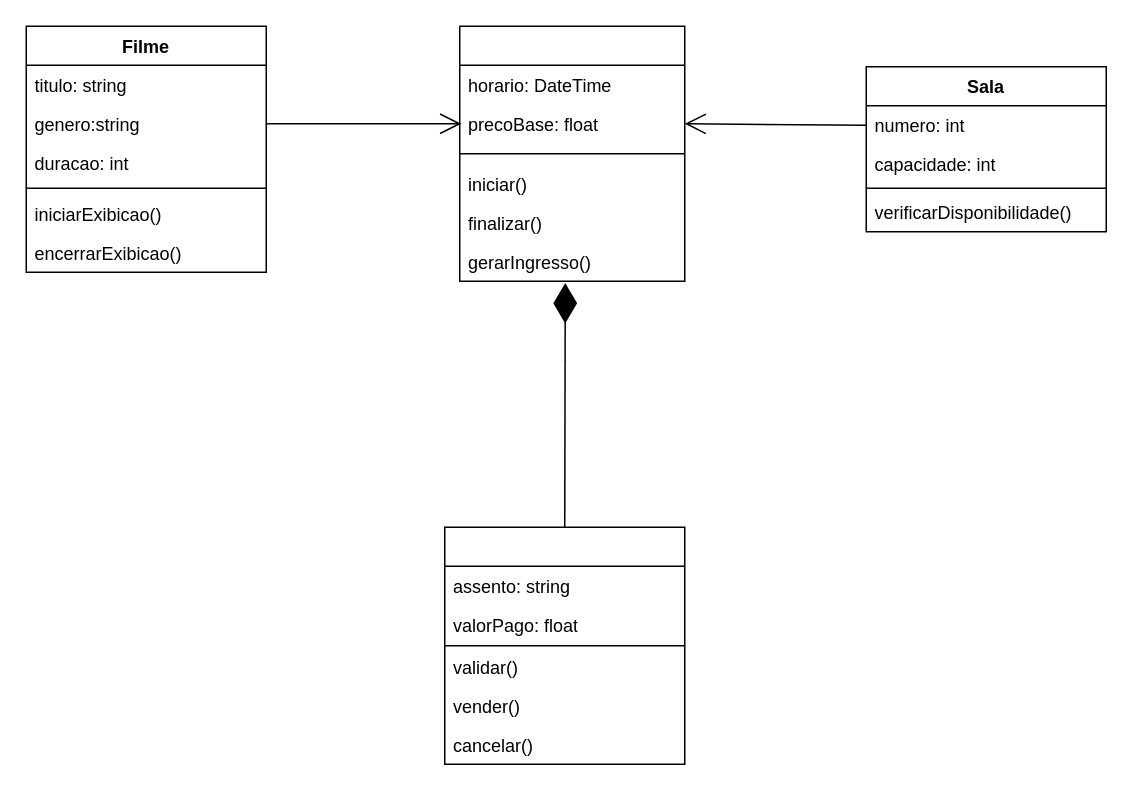
The diagram is 1133 pixels wide and 795 high, and some of its shapes have lost their labels. Each missing label, with the box of its shape:
Ingresso: (443, 526, 685, 764)
Sessão: (458, 25, 685, 281)
